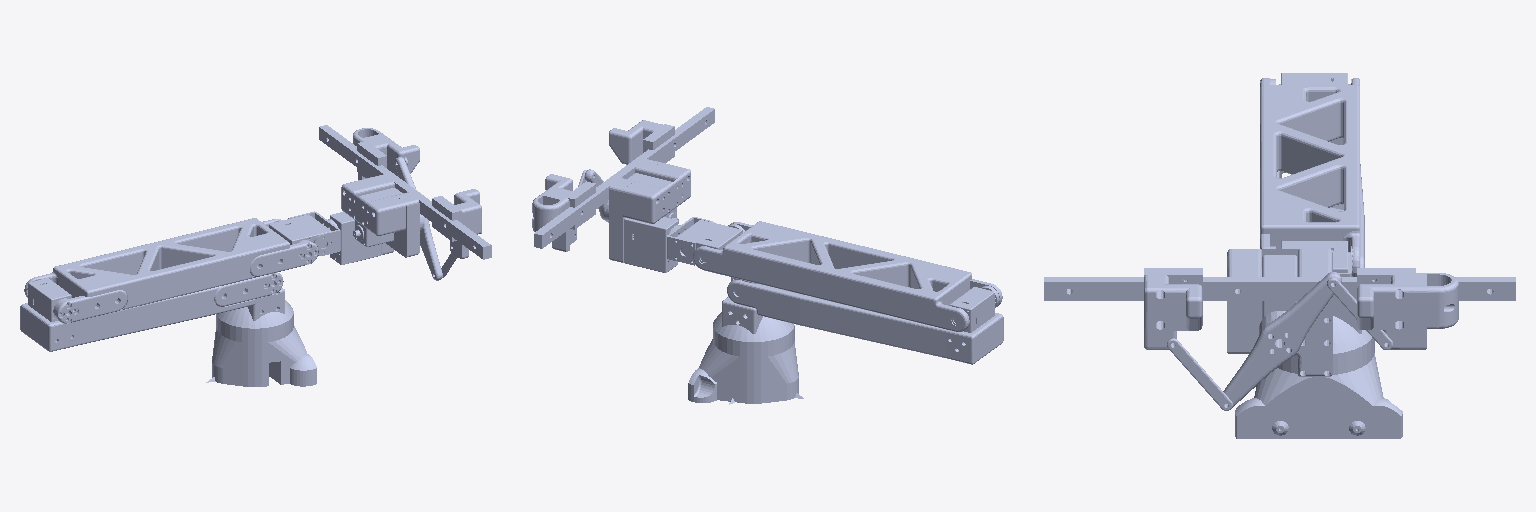
The robot description file, URDF, robot "Arm_URDF":
<?xml version="1.0" encoding="utf-8"?>
<!-- This URDF was automatically created by SolidWorks to URDF Exporter! Originally created by [author] ([email redacted]) 
     Commit Version: 1.6.0-4-g7f85cfe  Build Version: 1.6.7995.38578
     For more information, please see http://wiki.ros.org/sw_urdf_exporter -->
<robot
  name="Arm_URDF">
  <link
    name="base_link">
    <inertial>
      <origin
        xyz="0.0521769073717248 -0.0703399927789635 0.124068490670146"
        rpy="0 0 0" />
      <mass
        value="0.970806772092797" />
      <inertia
        ixx="0.00258153346595371"
        ixy="0.000797031257291052"
        ixz="-0.00177573648832837"
        iyy="0.0147177483851838"
        iyz="0.000142345391036613"
        izz="0.0163236801981688" />
    </inertial>
    <visual>
      <origin
        xyz="0 0 0"
        rpy="0 0 0" />
      <geometry>
        <mesh
          filename="package://Arm_URDF/meshes/base_link.STL" />
      </geometry>
      <material
        name="">
        <color
          rgba="0.792156862745098 0.819607843137255 0.933333333333333 1" />
      </material>
    </visual>
    <collision>
      <origin
        xyz="0 0 0"
        rpy="0 0 0" />
      <geometry>
        <mesh
          filename="package://Arm_URDF/meshes/base_link.STL" />
      </geometry>
    </collision>
  </link>
  <link
    name="L1">
    <inertial>
      <origin
        xyz="-8.1661E-07 0.029839 9.423E-05"
        rpy="0 0 0" />
      <mass
        value="0.033977" />
      <inertia
        ixx="8.7891E-06"
        ixy="1.1119E-10"
        ixz="-1.2028E-10"
        iyy="5.6055E-06"
        iyz="-5.7584E-09"
        izz="5.3978E-06" />
    </inertial>
    <visual>
      <origin
        xyz="0 0 0"
        rpy="0 0 0" />
      <geometry>
        <mesh
          filename="package://Arm_URDF/meshes/L1.STL" />
      </geometry>
      <material
        name="">
        <color
          rgba="0.79216 0.81961 0.93333 1" />
      </material>
    </visual>
    <collision>
      <origin
        xyz="0 0 0"
        rpy="0 0 0" />
      <geometry>
        <mesh
          filename="package://Arm_URDF/meshes/L1.STL" />
      </geometry>
    </collision>
  </link>
  <joint
    name="R0"
    type="continuous">
    <origin
      xyz="0.02858 -0.058321 0.057836"
      rpy="1.5708 0 0" />
    <parent
      link="base_link" />
    <child
      link="L1" />
    <axis
      xyz="0 1 0" />
    <limit
      lower="-1.5708"
      upper="1.5708"
      effort="0"
      velocity="0" />
  </joint>
  <link
    name="L2">
    <inertial>
      <origin
        xyz="-0.12053 -0.00055001 0.0033294"
        rpy="0 0 0" />
      <mass
        value="0.20945" />
      <inertia
        ixx="7.4616E-05"
        ixy="-4.959E-06"
        ixz="5.724E-06"
        iyy="0.00071516"
        iyz="5.516E-07"
        izz="0.00066868" />
    </inertial>
    <visual>
      <origin
        xyz="0 0 0"
        rpy="0 0 0" />
      <geometry>
        <mesh
          filename="package://Arm_URDF/meshes/L2.STL" />
      </geometry>
      <material
        name="">
        <color
          rgba="0.79216 0.81961 0.93333 1" />
      </material>
    </visual>
    <collision>
      <origin
        xyz="0 0 0"
        rpy="0 0 0" />
      <geometry>
        <mesh
          filename="package://Arm_URDF/meshes/L2.STL" />
      </geometry>
    </collision>
  </link>
  <joint
    name="R1"
    type="continuous">
    <origin
      xyz="0 0.03923 0"
      rpy="0 0 0" />
    <parent
      link="L1" />
    <child
      link="L2" />
    <axis
      xyz="0 0 1" />
    <limit
      lower="0"
      upper="3.1416"
      effort="0"
      velocity="0" />
  </joint>
  <link
    name="L3">
    <inertial>
      <origin
        xyz="0.11798200383006 0.00260725988211132 0.0061315742357908"
        rpy="0 0 0" />
      <mass
        value="0.199897369392594" />
      <inertia
        ixx="8.38048043126101E-05"
        ixy="1.51208017627734E-08"
        ixz="1.00658590708238E-07"
        iyy="0.000846509367809361"
        iyz="-1.12681519177444E-06"
        izz="0.000784464949132807" />
    </inertial>
    <visual>
      <origin
        xyz="0 0 0"
        rpy="0 0 0" />
      <geometry>
        <mesh
          filename="package://Arm_URDF/meshes/L3.STL" />
      </geometry>
      <material
        name="">
        <color
          rgba="0.792156862745098 0.819607843137255 0.933333333333333 1" />
      </material>
    </visual>
    <collision>
      <origin
        xyz="0 0 0"
        rpy="0 0 0" />
      <geometry>
        <mesh
          filename="package://Arm_URDF/meshes/L3.STL" />
      </geometry>
    </collision>
  </link>
  <joint
    name="R2"
    type="continuous">
    <origin
      xyz="-0.20288 0.02131 0"
      rpy="0 0 0" />
    <parent
      link="L2" />
    <child
      link="L3" />
    <axis
      xyz="0 0 1" />
    <limit
      lower="0"
      upper="3.1416"
      effort="0"
      velocity="0" />
  </joint>
  <link
    name="L4">
    <inertial>
      <origin
        xyz="0.00939136432404137 -8.65036229577565E-07 0.00264422952060916"
        rpy="0 0 0" />
      <mass
        value="0.0339767025418291" />
      <inertia
        ixx="5.60554753762257E-06"
        ixy="-1.11186600152776E-10"
        ixz="5.75843035842315E-09"
        iyy="8.78906224379917E-06"
        iyz="-1.20280286243577E-10"
        izz="5.39784635872936E-06" />
    </inertial>
    <visual>
      <origin
        xyz="0 0 0"
        rpy="0 0 0" />
      <geometry>
        <mesh
          filename="package://Arm_URDF/meshes/L4.STL" />
      </geometry>
      <material
        name="">
        <color
          rgba="0.792156862745098 0.819607843137255 0.933333333333333 1" />
      </material>
    </visual>
    <collision>
      <origin
        xyz="0 0 0"
        rpy="0 0 0" />
      <geometry>
        <mesh
          filename="package://Arm_URDF/meshes/L4.STL" />
      </geometry>
    </collision>
  </link>
  <joint
    name="R3"
    type="continuous">
    <origin
      xyz="0.236 0 0"
      rpy="0 0 0" />
    <parent
      link="L3" />
    <child
      link="L4" />
    <axis
      xyz="0 0 1" />
    <limit
      lower="-1.57079632679"
      upper="1.57079632679"
      effort="0"
      velocity="0" />
  </joint>
  <link
    name="L5">
    <inertial>
      <origin
        xyz="0.0550813551064638 0.0145862789496685 0.0130824265575257"
        rpy="0 0 0" />
      <mass
        value="0.232858874172976" />
      <inertia
        ixx="0.000245104774448501"
        ixy="-1.71417684658931E-06"
        ixz="-5.46777303079781E-07"
        iyy="0.000227285925740455"
        iyz="1.44514729186533E-06"
        izz="4.83196073554204E-05" />
    </inertial>
    <visual>
      <origin
        xyz="0 0 0"
        rpy="0 0 0" />
      <geometry>
        <mesh
          filename="package://Arm_URDF/meshes/L5.STL" />
      </geometry>
      <material
        name="">
        <color
          rgba="0.792156862745098 0.819607843137255 0.933333333333333 1" />
      </material>
    </visual>
    <collision>
      <origin
        xyz="0 0 0"
        rpy="0 0 0" />
      <geometry>
        <mesh
          filename="package://Arm_URDF/meshes/L5.STL" />
      </geometry>
    </collision>
  </link>
  <joint
    name="R4"
    type="continuous">
    <origin
      xyz="0.037 0 0.0025501"
      rpy="0 0 0" />
    <parent
      link="L4" />
    <child
      link="L5" />
    <axis
      xyz="1 0 0" />
    <limit
      lower="-1.57079632679"
      upper="1.57079632679"
      effort="0"
      velocity="0" />
  </joint>
</robot>

--- What the picture shows (computed from the rendered views, not written in the file) ---
3 views of the same robot in one strip: view 1: azimuth 30°, elevation 25°; view 2: azimuth 150°, elevation 25°; view 3: azimuth 270°, elevation 25° (orthographic).
Model Arm_URDF with 6 links and 5 joints (5 continuous), rooted at base_link, posed every joint at zero.
Visible links, largest first — view 1: L3, L5, L2, base_link, L4, L1; view 2: L3, L5, L2, base_link, L1, L4; view 3: L5, L3, base_link, L2, L1, L4.
Link boxes in pixels (left/top/right/bottom): L3: left=24, top=218, right=318, bottom=323; L5: left=319, top=125, right=491, bottom=280; L2: left=20, top=272, right=283, bottom=351; base_link: left=206, top=314, right=316, bottom=386; L4: left=269, top=211, right=340, bottom=255; L1: left=217, top=282, right=293, bottom=328; L3: left=693, top=221, right=1002, bottom=331; L5: left=532, top=107, right=714, bottom=272; L2: left=727, top=280, right=1003, bottom=364; base_link: left=688, top=326, right=803, bottom=404; L1: left=713, top=277, right=794, bottom=341; L4: left=667, top=217, right=744, bottom=265; L5: left=1044, top=249, right=1515, bottom=410; L3: left=1260, top=78, right=1359, bottom=276; base_link: left=1235, top=338, right=1402, bottom=438; L2: left=1270, top=73, right=1364, bottom=267; L1: left=1333, top=305, right=1371, bottom=353; L4: left=1270, top=241, right=1352, bottom=304.
Size in the robot's own frame: 0.3946 by 0.28 by 0.1623 metres.
6 mesh visuals loaded from 6 distinct referenced files (6 binary STL).